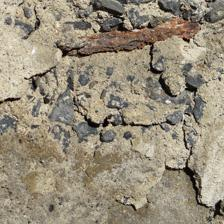Crack: (42, 53, 96, 164), (46, 64, 157, 116), (26, 4, 66, 103)
